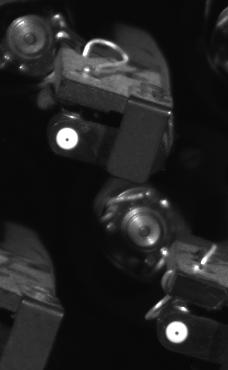fiber: (163, 316, 194, 347), (52, 125, 83, 154)
